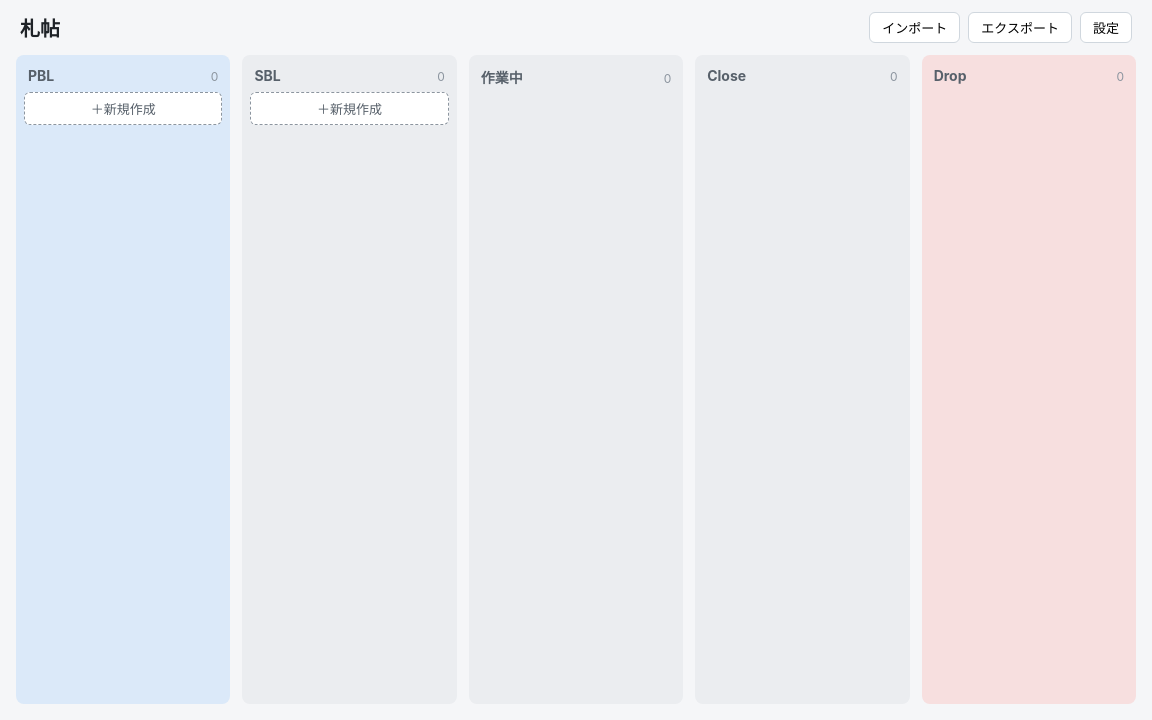
Test case: App › 設定でプロジェクト名の変更と自由レーンの追加ができる
The width and height of the screenshot is (1152, 720).
Click the button "設定": {"x": 1106, "y": 28} [1080,12,1132,43]
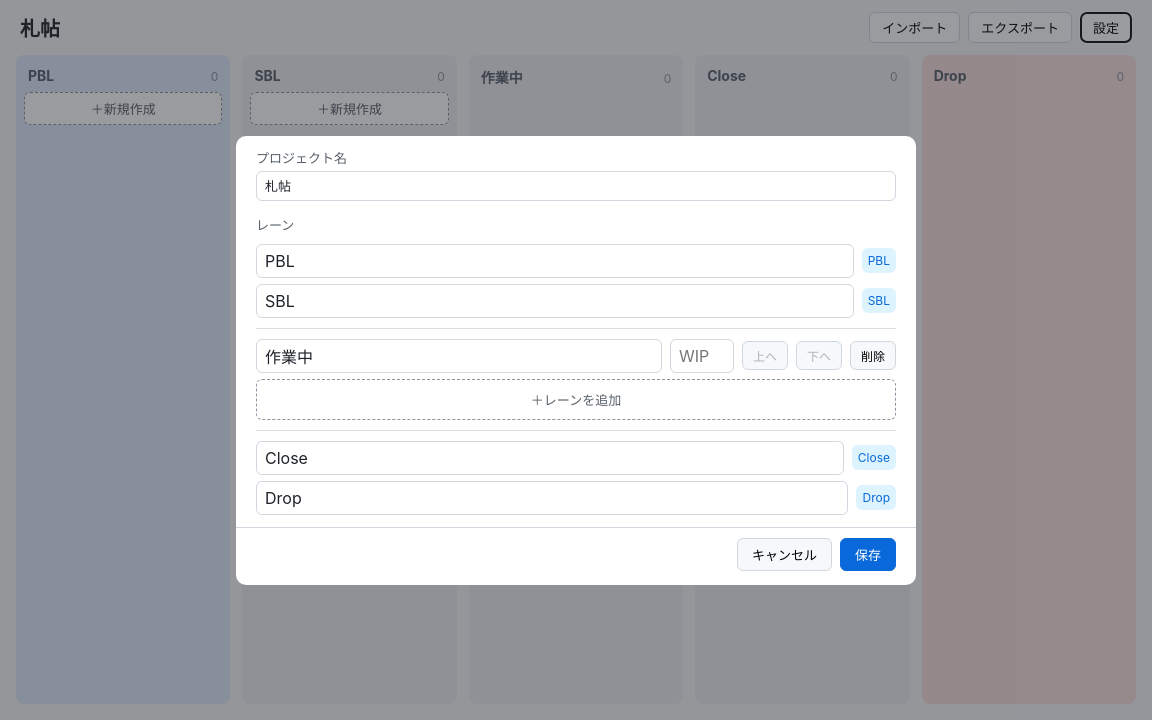
Replace the text in the field labelled "プロジェクト名" with "改名プロジェクト": {"x": 576, "y": 186} [256,170,896,200]
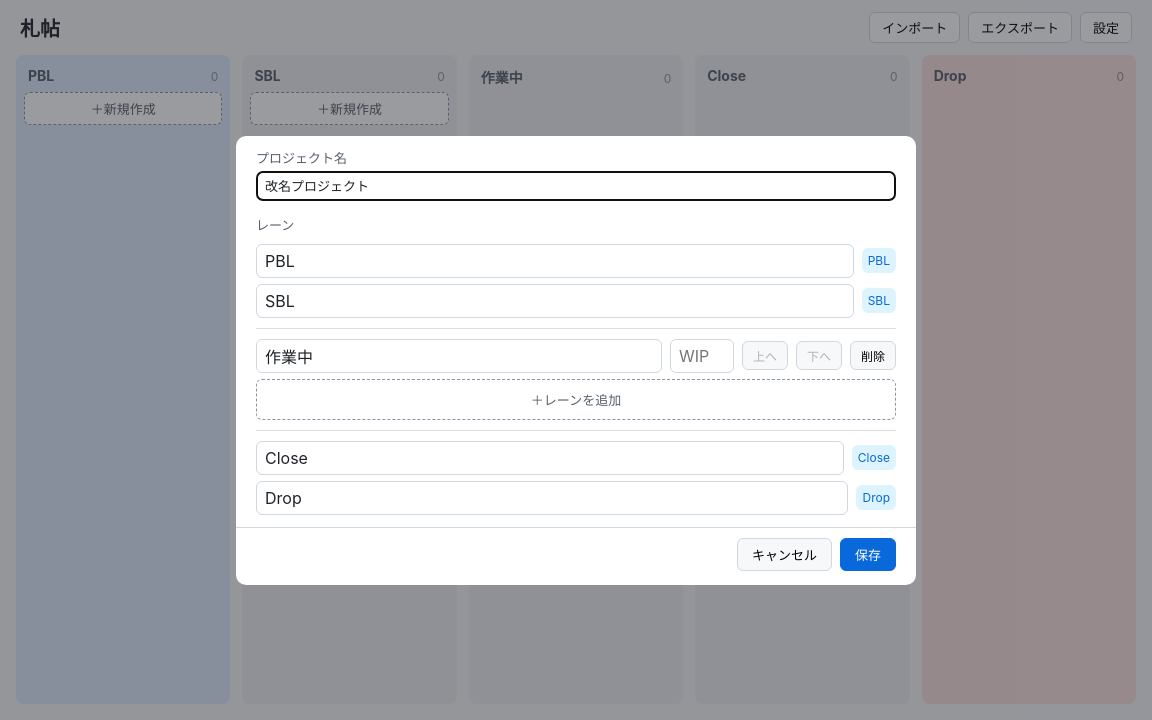
Click the button "＋レーンを追加": {"x": 576, "y": 399} [256,378,896,420]
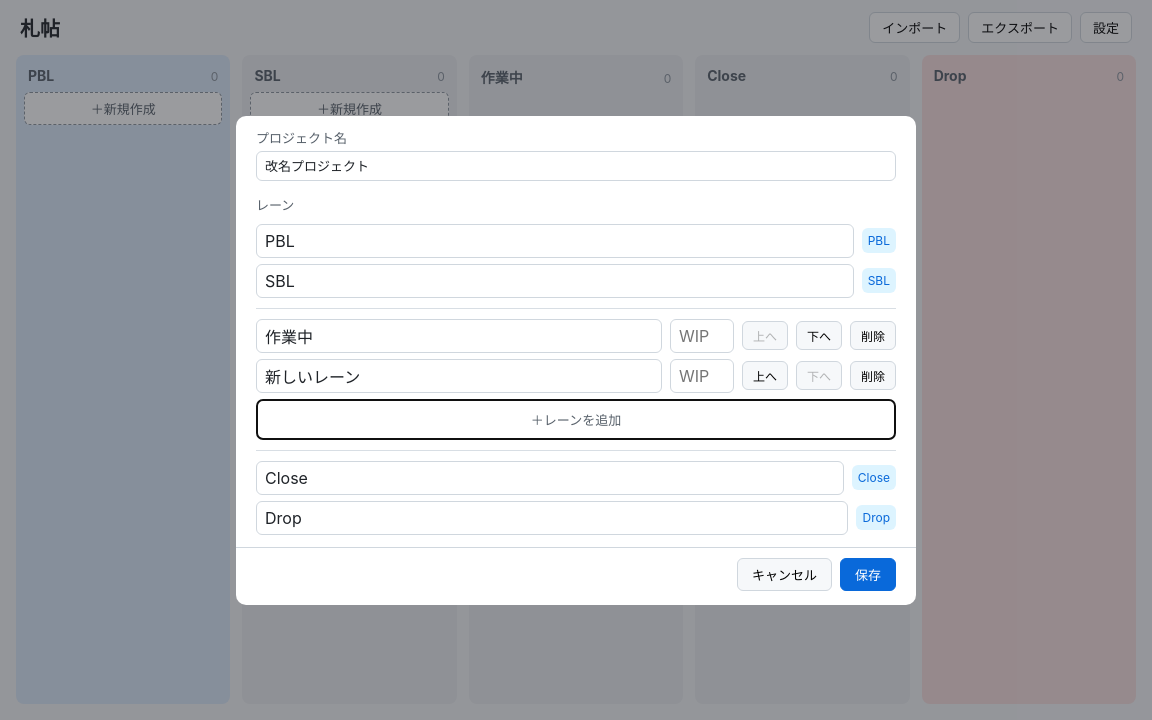
Click the button "保存": {"x": 868, "y": 574} [840,558,896,590]
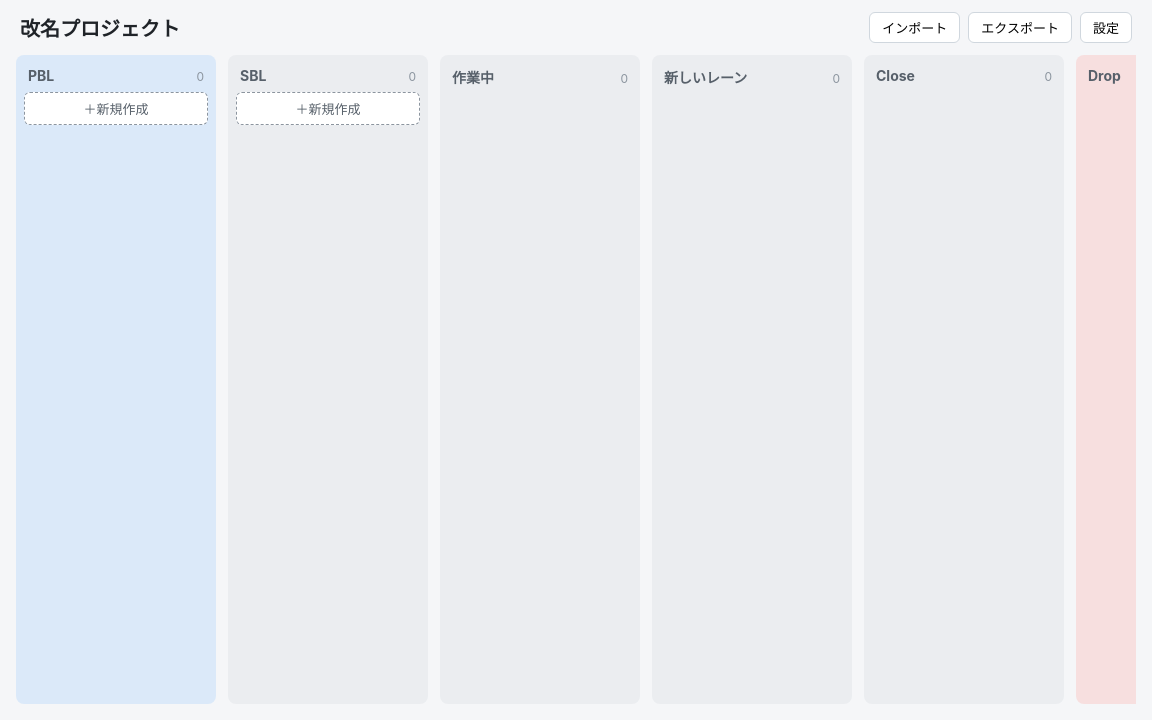
Now the dialog is gone
Now the heading "改名プロジェクト" is shown, box [20,13,180,42]
Now the element "新しいレーン" is shown, box [652,55,852,704]
